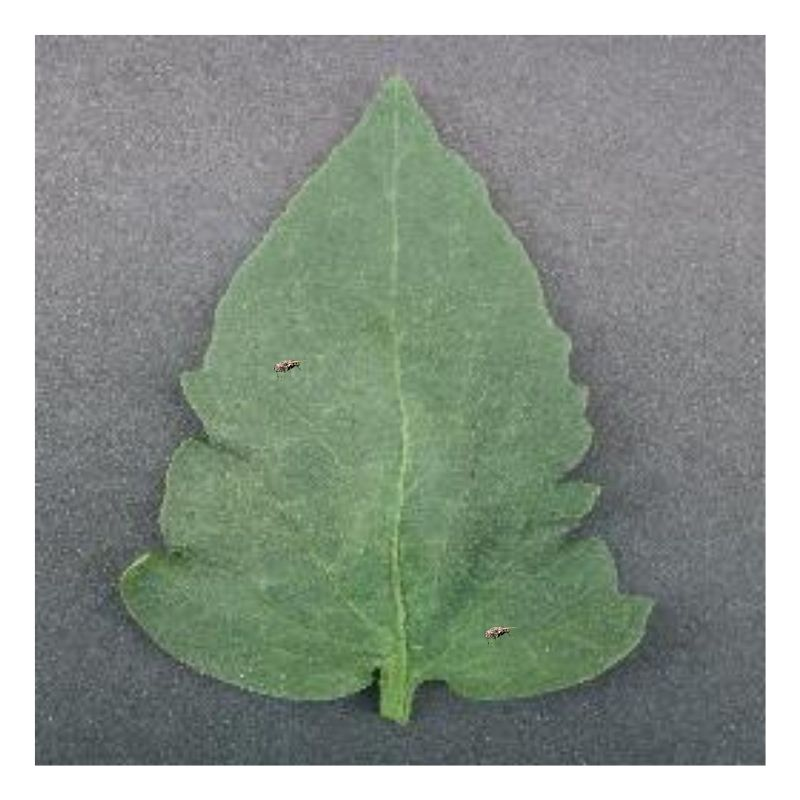liriomyza: (272, 355, 307, 377), (483, 623, 520, 641)
